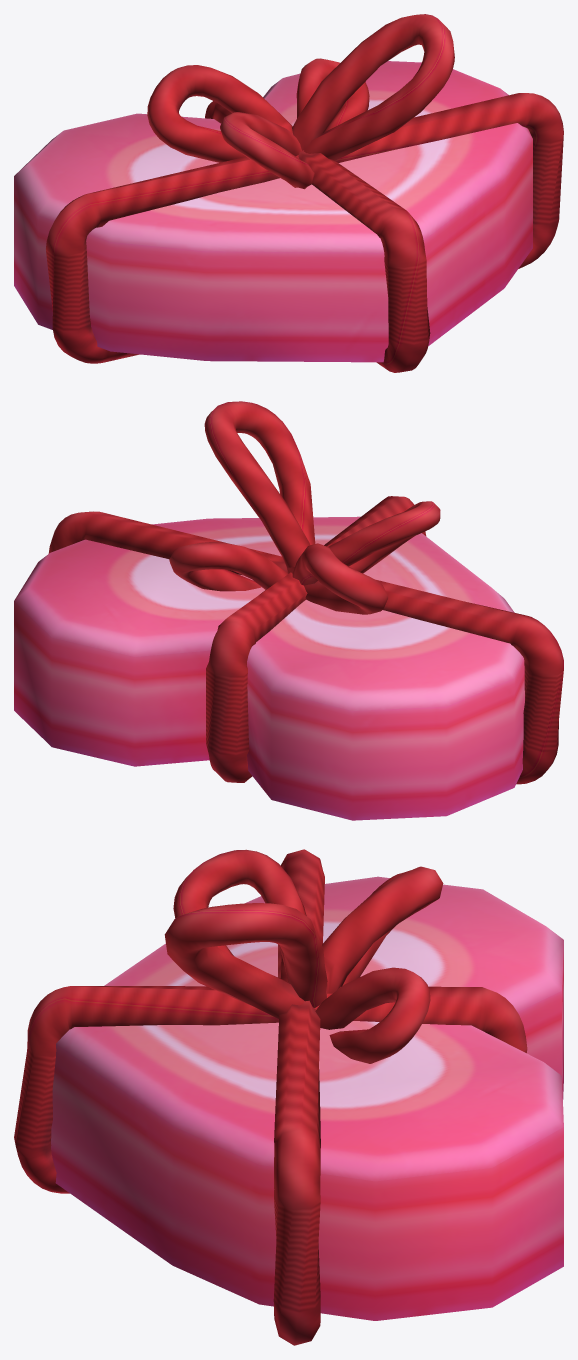
File: SE_Present_01.fbx
3 renders of one model, top to bottom at view 1: azimuth 30°, elevation 25°; view 2: azimuth 150°, elevation 25°; view 3: azimuth 270°, elevation 25°, orthographic. The views are drawn at different scales.
Visible parts, largest first — view 1: SE_Present_01; view 2: SE_Present_01; view 3: SE_Present_01.
Boxes of the visible parts, x1,y1,x2,y2 form: SE_Present_01: (14, 14, 563, 372); SE_Present_01: (14, 401, 563, 820); SE_Present_01: (14, 849, 563, 1345).
Size of the model in its own units: 2.12 by 1.15 by 1.55.
